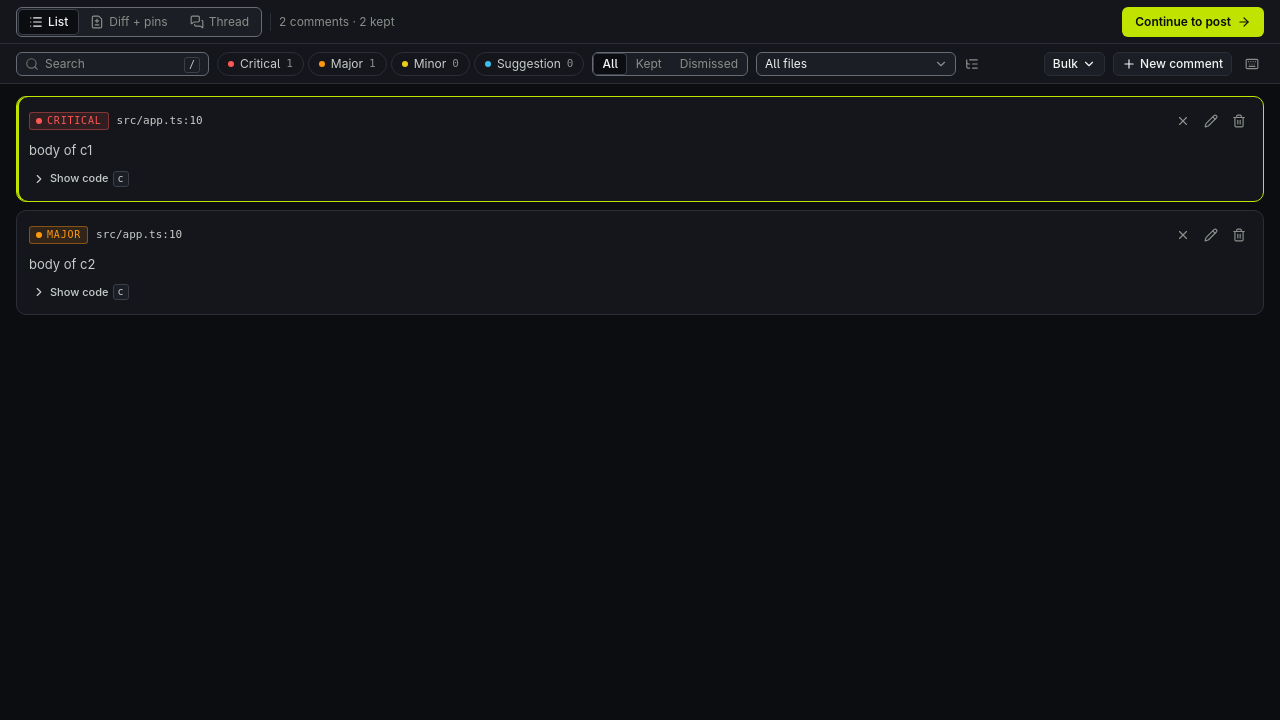
Scenario: PolishStage list — editing › e opens the inline editor and ⌘↵ saves only what changed
Type keys "e"
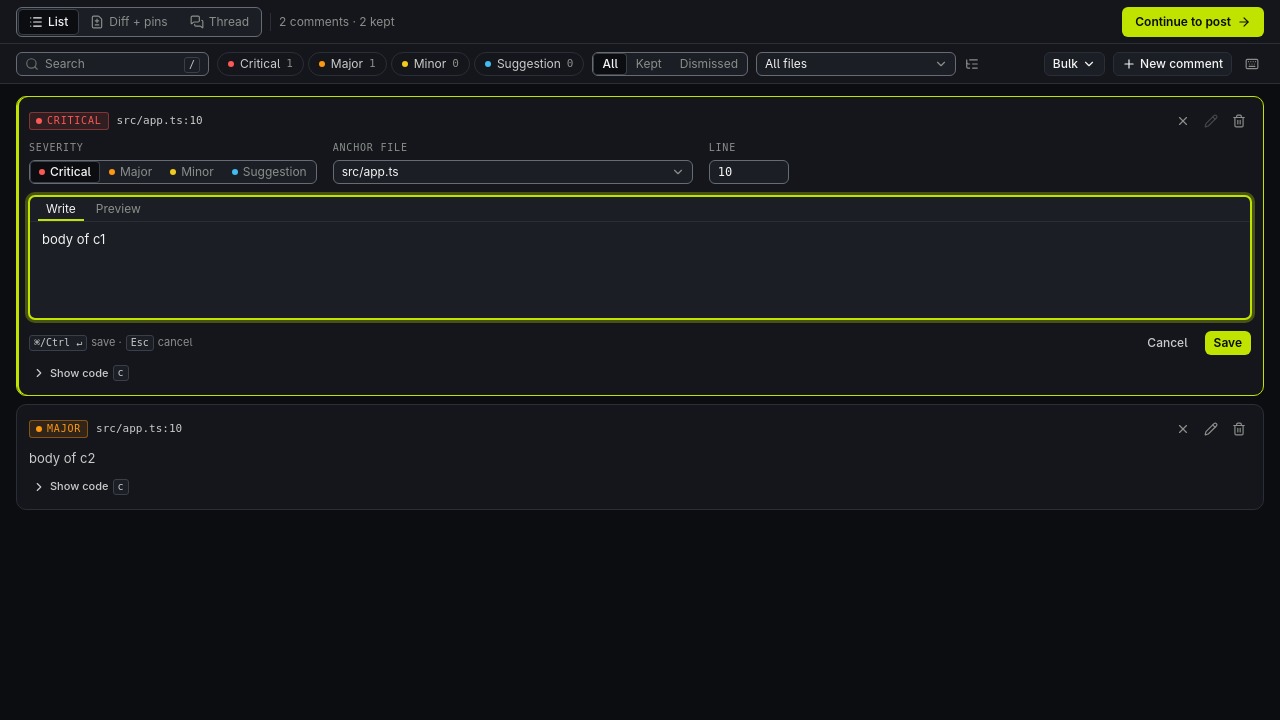
Expected: the text box named "Comment body" holds "body of c1"
Replace the text in the text box named "Comment body" with "rewritten": point(640, 270) [30,222,1250,318]
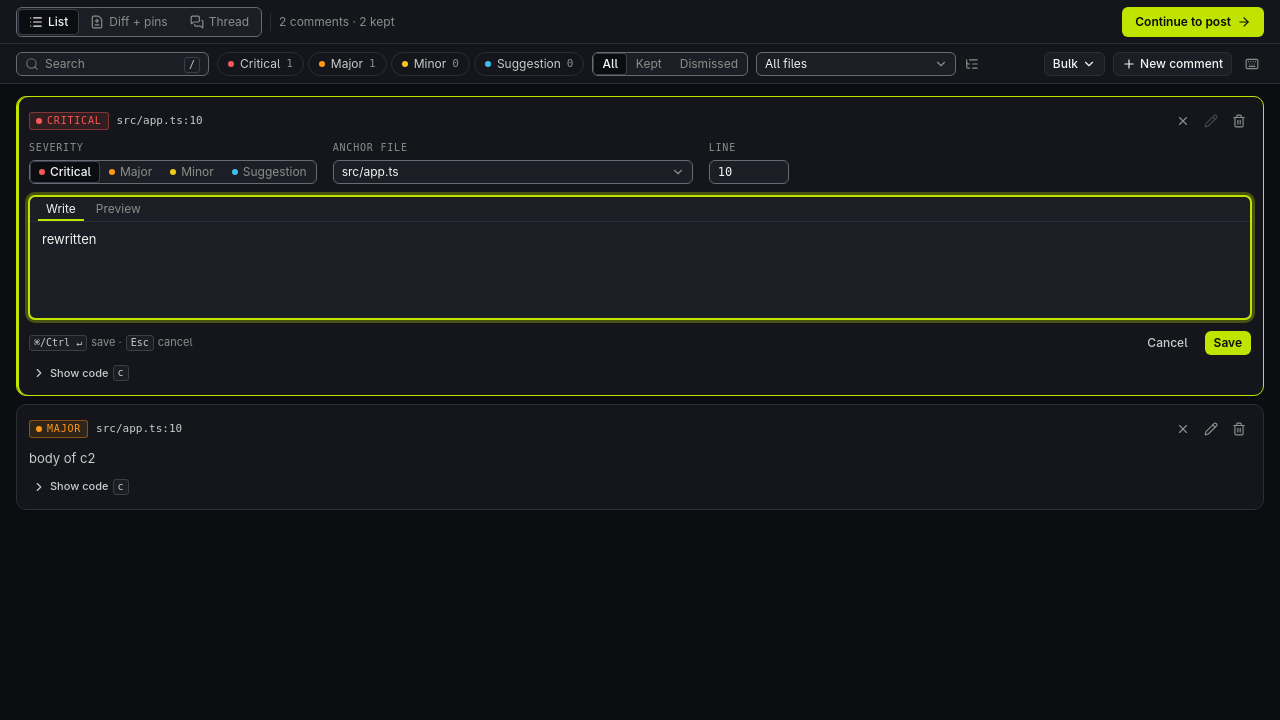
Type keys "{Meta>}{Enter}{/Meta}"
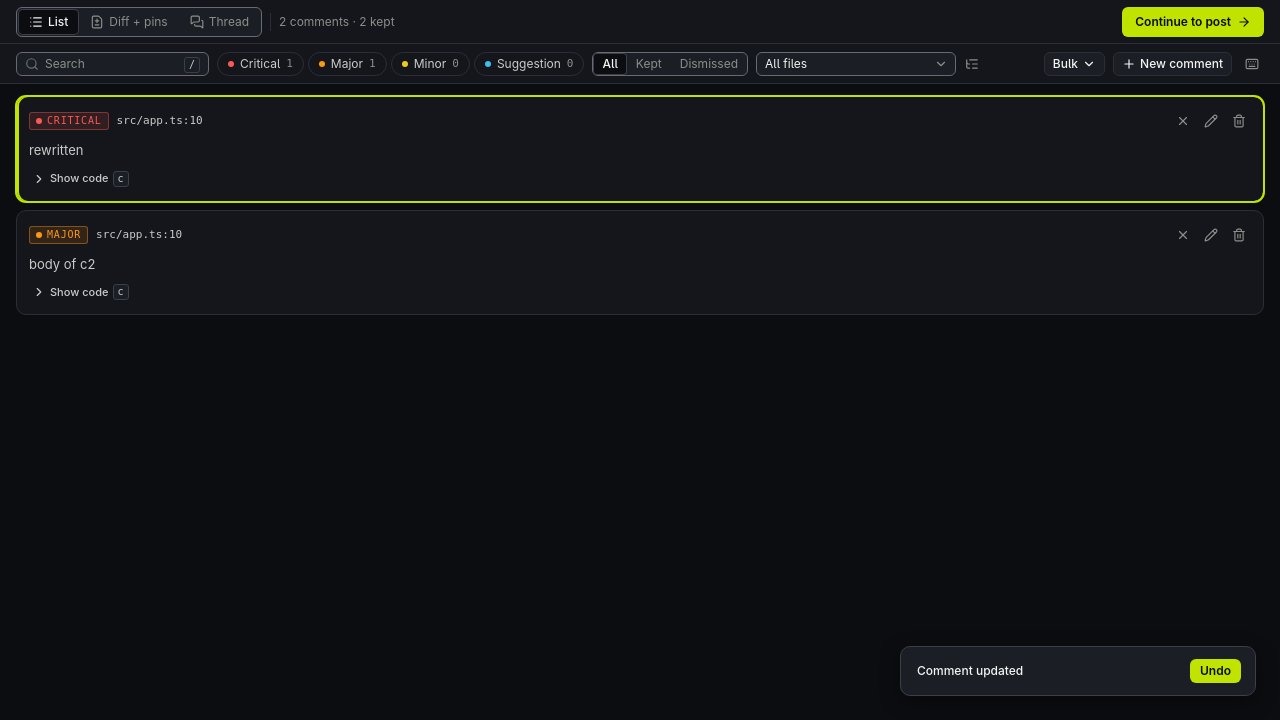
Expected: the text "rewritten" is shown, [29,142,84,158]
